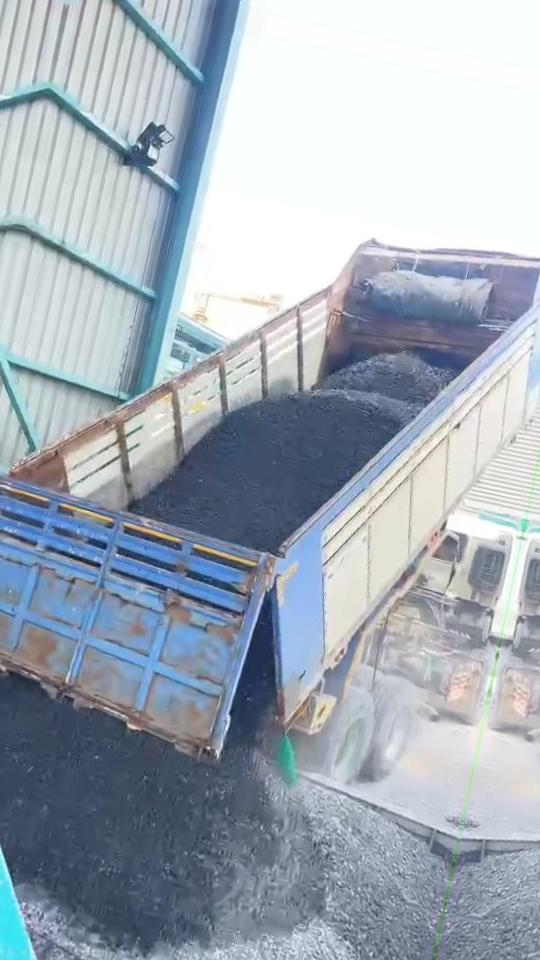gravel: (0, 608, 447, 960), (133, 353, 451, 550)
